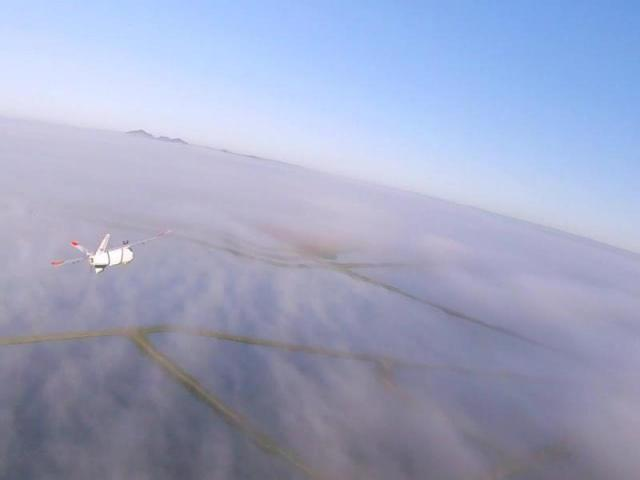hedef: (40, 222, 170, 280)
